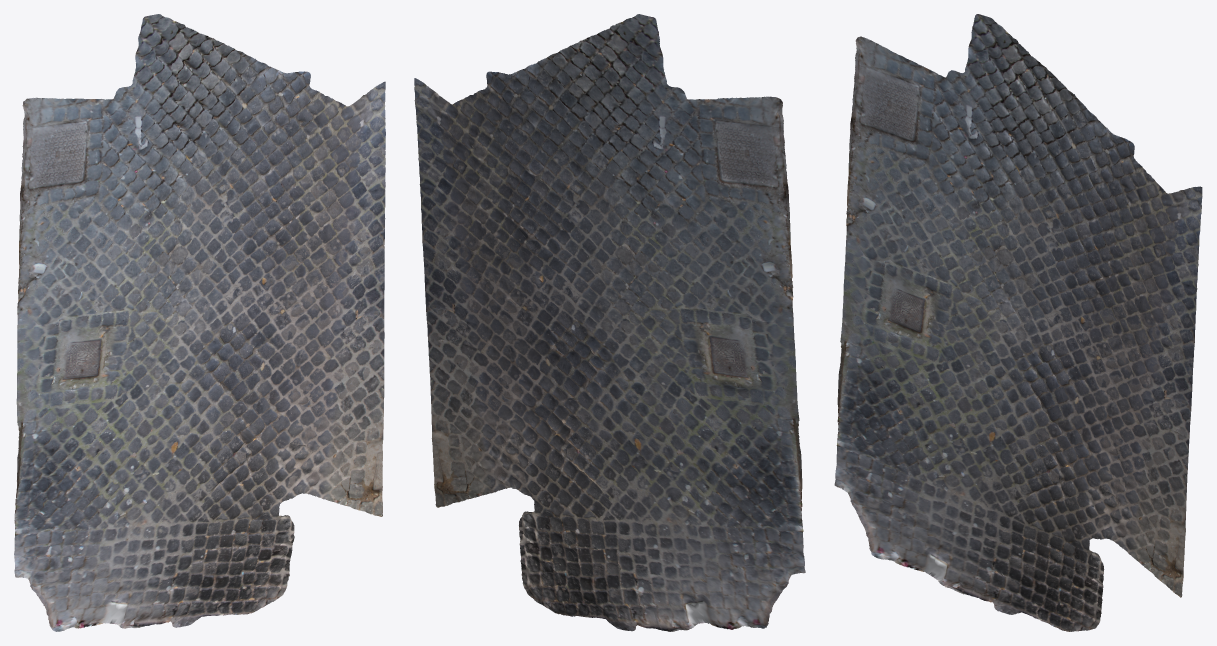
3 renders of one model, left to right at view 1: azimuth 30°, elevation 25°; view 2: azimuth 150°, elevation 25°; view 3: azimuth 330°, elevation 25°, orthographic. The views are drawn at different scales.
Parts seen in each view (by area): view 1: Object_1; view 2: Object_1; view 3: Object_1.
Part boxes in pixels (<box>): Object_1: <box>14,14,385,631</box>; Object_1: <box>414,14,805,631</box>; Object_1: <box>834,14,1202,631</box>.
Bounding box in the file's own units: 20.48 × 1.47 × 31.93.
1 material, 1 textured.
